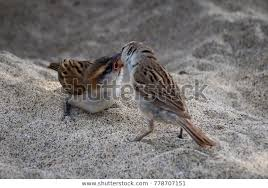hsparrow: (113, 41, 217, 154), (43, 51, 126, 124)
